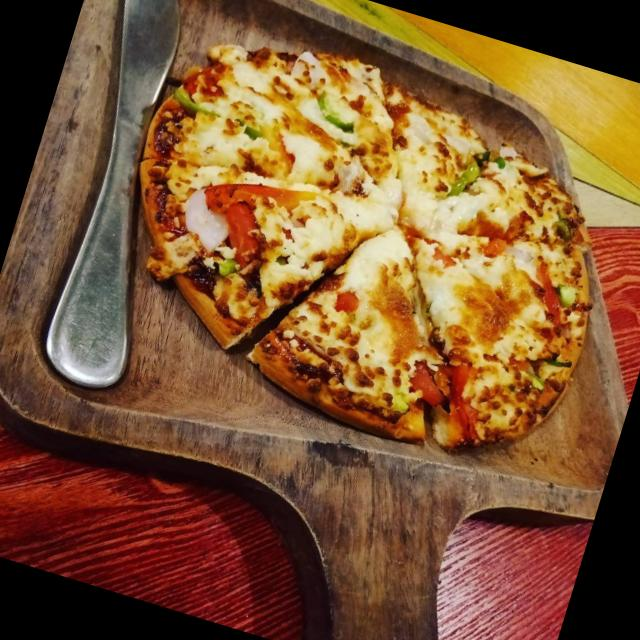peppers: (203, 173, 334, 247), (410, 355, 474, 442), (527, 251, 568, 328), (316, 89, 357, 135), (440, 158, 483, 199), (171, 89, 212, 114)
pizza: (143, 46, 595, 453)
